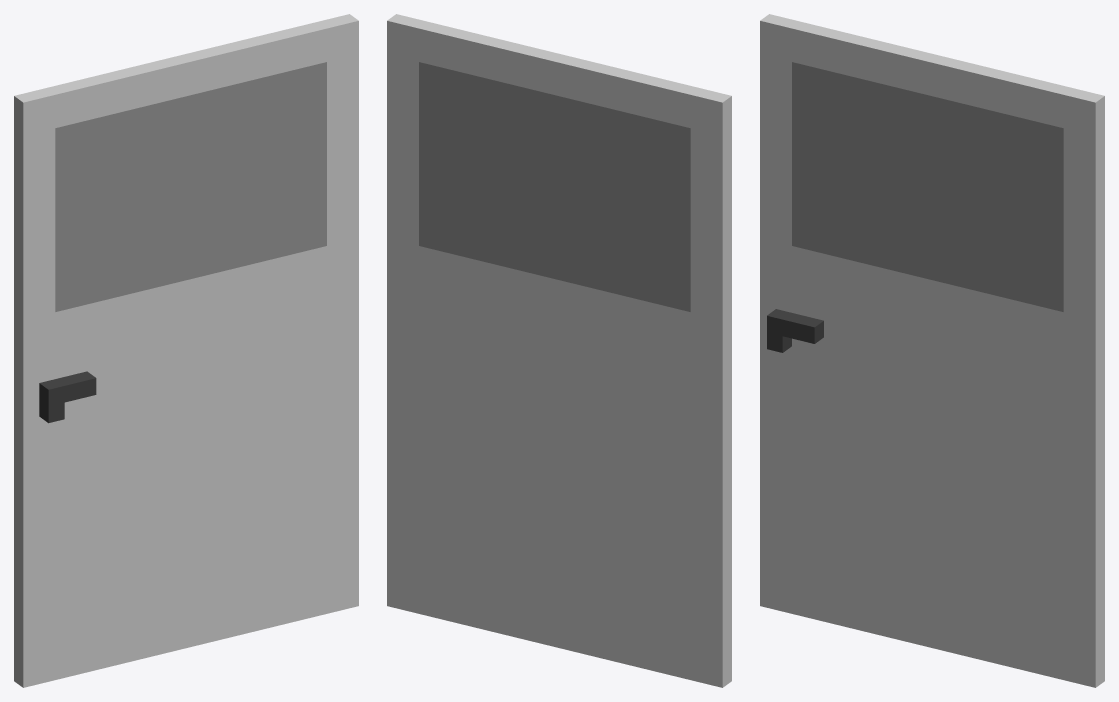
The model's file is ConstructionMaterials-2.gltf.
3 views of the same model, side by side, from view 1: azimuth 30°, elevation 25°; view 2: azimuth 150°, elevation 25°; view 3: azimuth 330°, elevation 25° (orthographic).
Parts seen in each view (by area): view 1: Node; view 2: Node; view 3: Node.
Part boxes in pixels (x1,y1,x2,y2): Node: (14,14,358,687); Node: (387,14,731,687); Node: (760,14,1104,687).
Size of the model in its own units: 2.1 by 3.5 by 0.2.
Materials: 1 (1 with a texture image).
